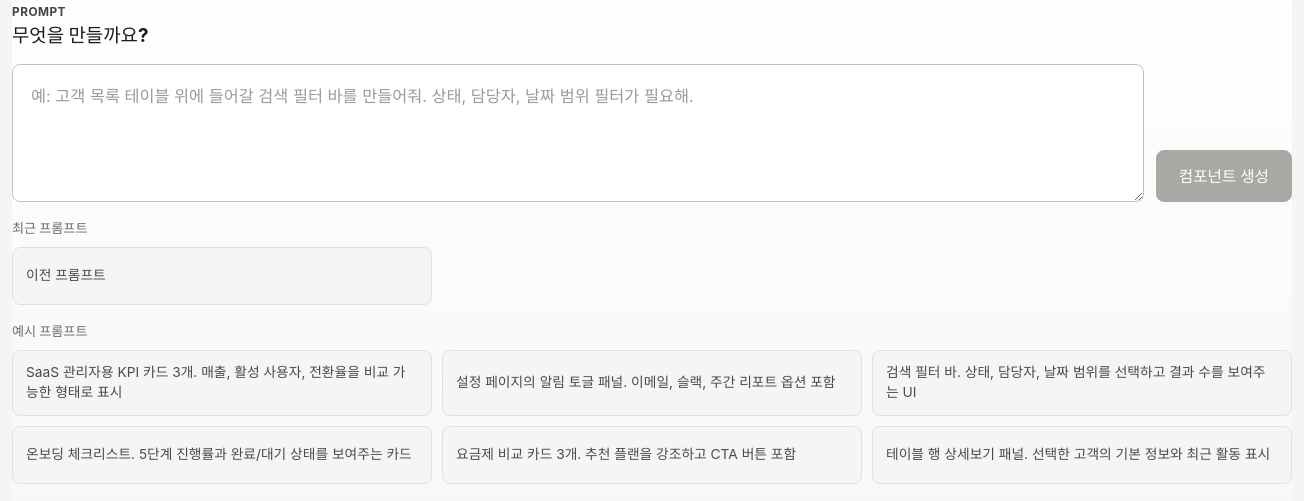
Test case: PromptInput › promptHistory가 있으면 최근 프롬프트 칩을 보여주고 클릭하면 입력창에 채워진다
Click the button "이전 프롬프트".
click(66, 275)  # box [12,247,432,305]
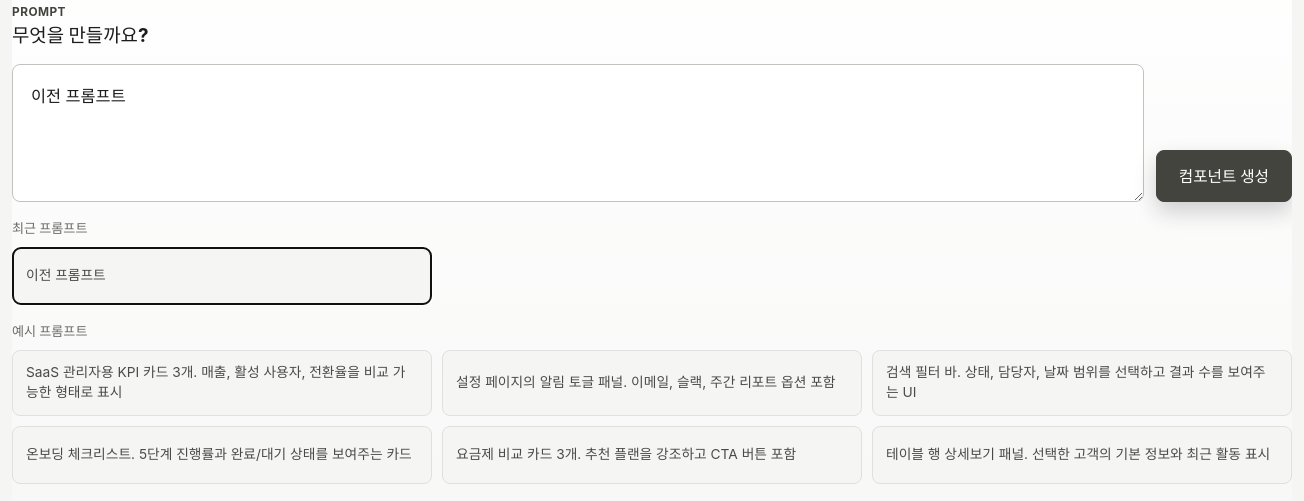
Expected: the text box holds "이전 프롬프트", [12,64,1144,202]
